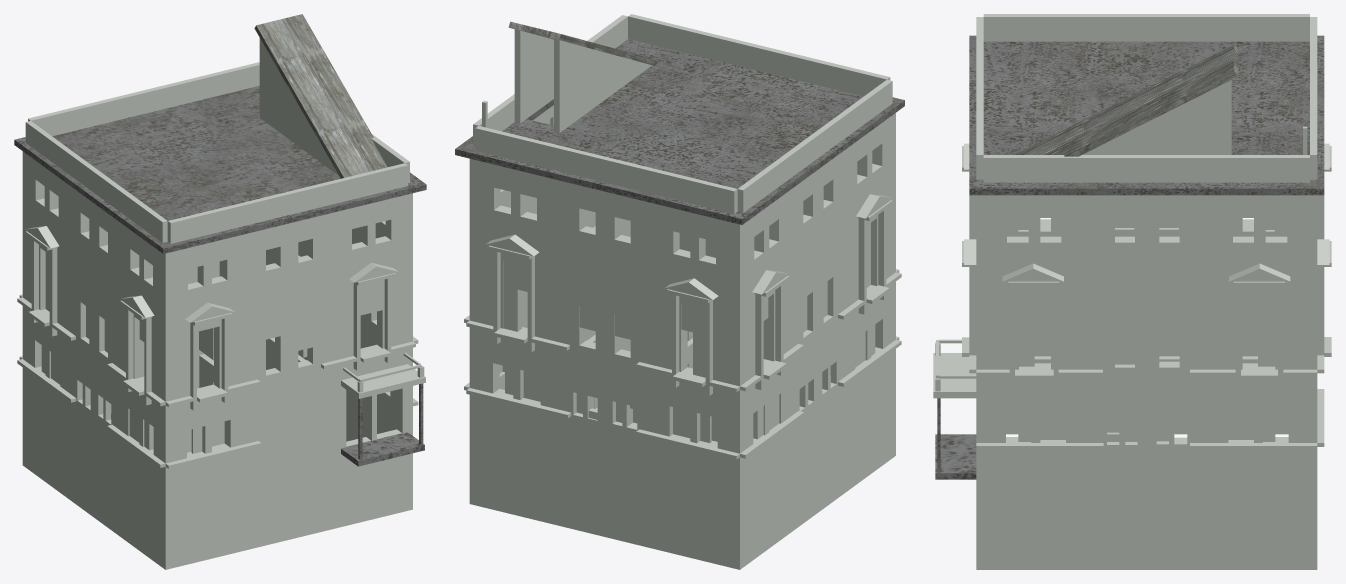
File: BagBuilding1_120.fbx
The picture shows the model from 3 angles, left to right: view 1: azimuth 30°, elevation 25°; view 2: azimuth 150°, elevation 25°; view 3: azimuth 270°, elevation 25°; orthographic projection. The views are drawn at different scales.
Visible parts, largest first — view 1: mainA120, floors120, shedroof120, porch120; view 2: mainA120, floors120, shedroof120; view 3: mainA120, floors120, shedroof120, porch120.
Part boxes in pixels (x1,y1,x2,y2): mainA120: (17,38,425,569); floors120: (14,86,426,253); shedroof120: (254,14,387,178); porch120: (341,383,424,466); mainA120: (464,14,901,569); floors120: (455,39,904,224); shedroof120: (508,21,660,65); mainA120: (933,14,1331,569); floors120: (969,35,1324,195); shedroof120: (1015,44,1238,156); porch120: (935,398,976,479).
Bounding box in the file's own units: 15.92 × 23.64 × 17.16.
